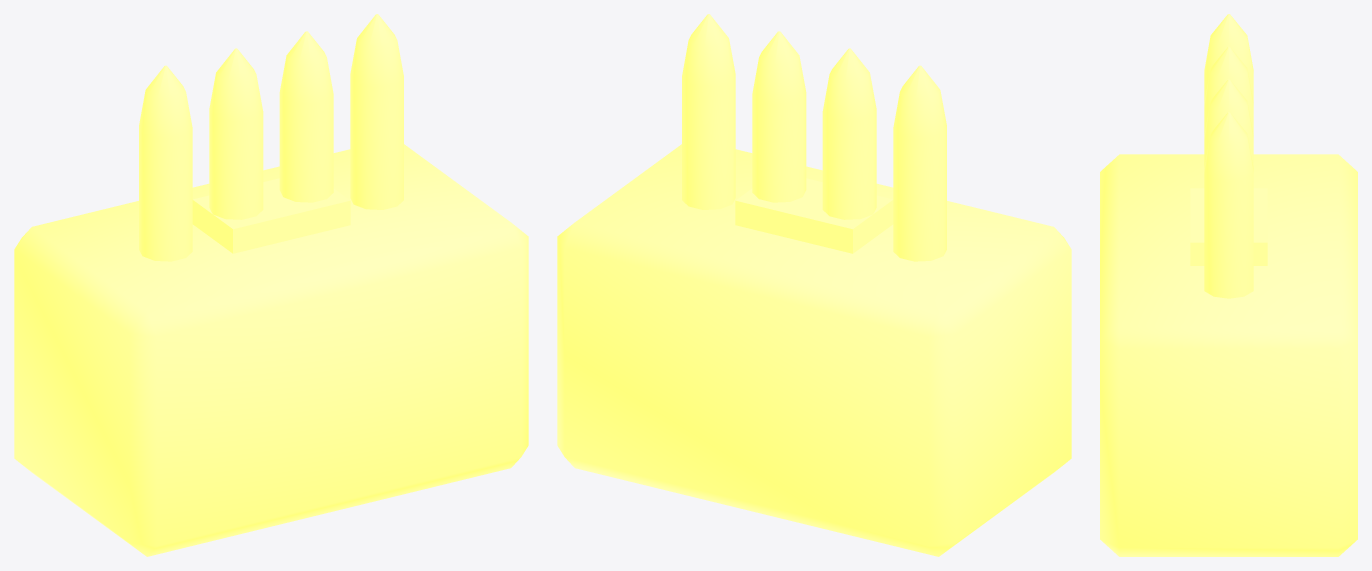
The model's file is pu_maxammo.gltf.
The picture shows the model from 3 angles, left to right: view 1: azimuth 30°, elevation 25°; view 2: azimuth 150°, elevation 25°; view 3: azimuth 270°, elevation 25°; orthographic projection. The views are drawn at different scales.
Parts seen in each view (by area): view 1: PU_maxammo; view 2: PU_maxammo; view 3: PU_maxammo.
Boxes of the visible parts, x1,y1,x2,y2 form: PU_maxammo: (14,14,528,556); PU_maxammo: (557,14,1071,556); PU_maxammo: (1100,14,1357,556).
Bounding box in the file's own units: 0.34 × 0.35 × 0.2.
